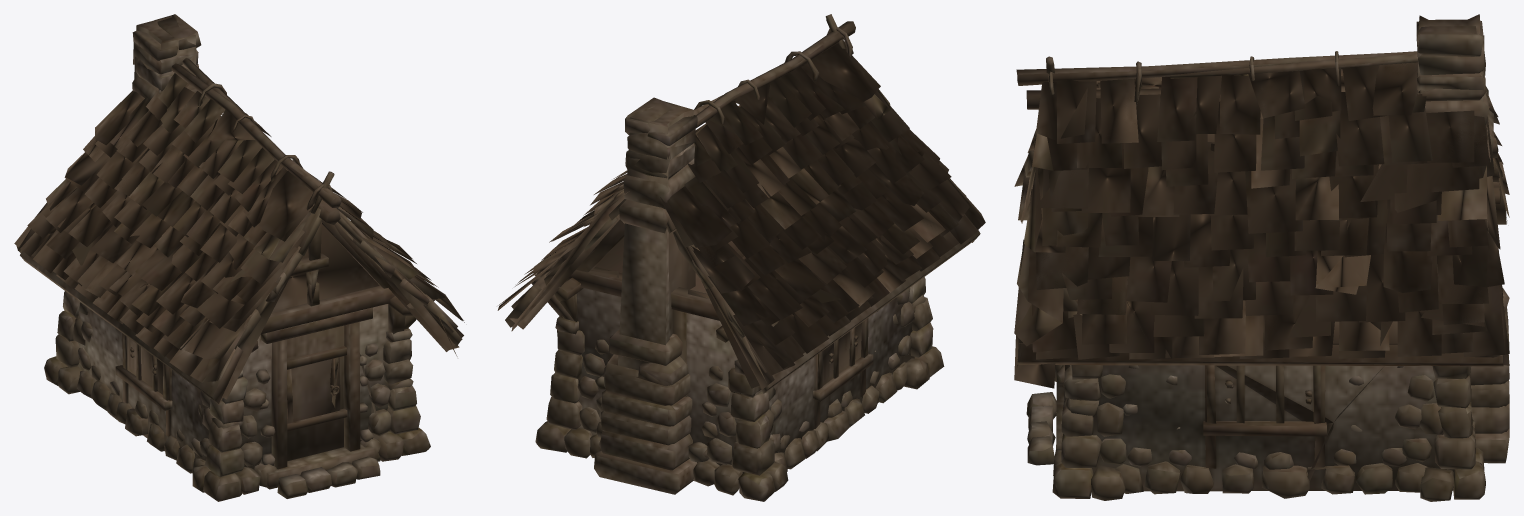
The model's file is x_home_A.glb.
The picture shows the model from 3 angles, left to right: view 1: azimuth 30°, elevation 25°; view 2: azimuth 150°, elevation 25°; view 3: azimuth 270°, elevation 25°; orthographic projection. The views are drawn at different scales.
Visible parts, largest first — view 1: x_home_A; view 2: x_home_A; view 3: x_home_A.
Part boxes in pixels (box(x1,y1,x2,y2)): x_home_A: box(14, 14, 464, 501); x_home_A: box(497, 14, 985, 501); x_home_A: box(1014, 14, 1509, 501).
Size of the model in its own units: 0.6811 by 0.7971 by 0.8537.
1 material, 1 textured.
